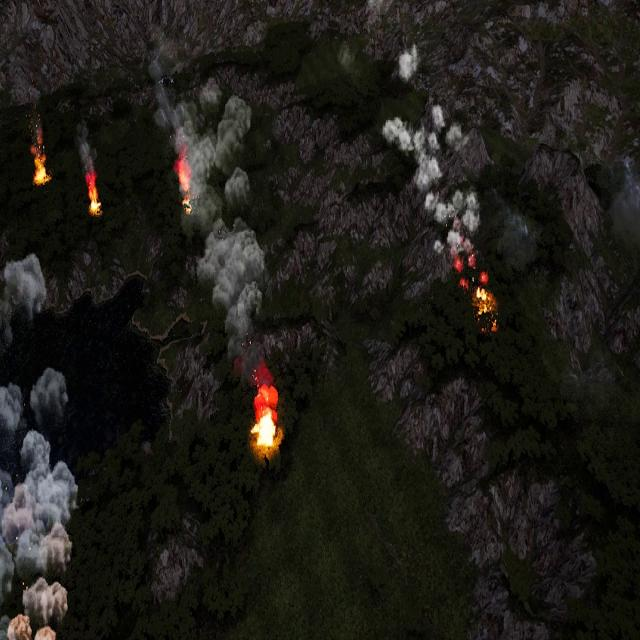fire: (474, 281, 500, 332), (250, 407, 278, 451), (30, 128, 48, 183), (175, 158, 192, 210), (88, 174, 103, 217)
smoke: (143, 41, 264, 376), (0, 247, 79, 640), (382, 44, 479, 278)
